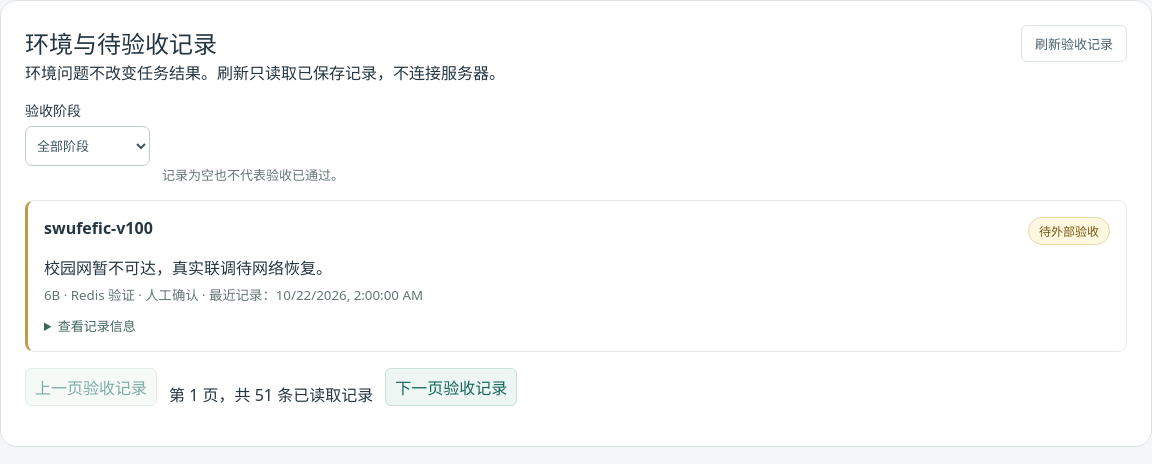
reads next page without losing the way back when records disappear
Expected: the heading "swufefic-v100" is shown, left=44, top=217, right=153, bottom=239
Click the button "下一页验收记录": (451, 387) left=385, top=368, right=517, bottom=406
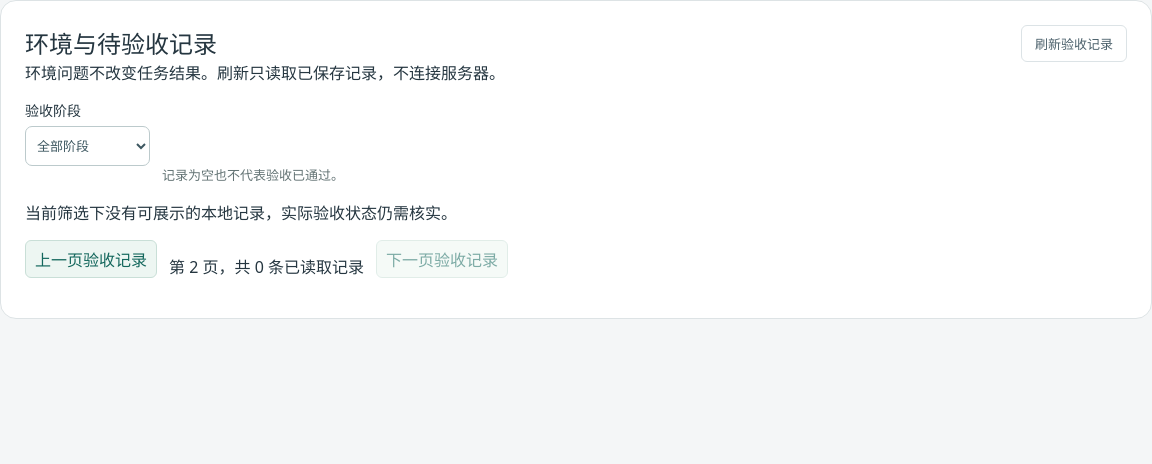
Expected: the text "当前筛选下没有可展示的本地记录，实际验收状态仍需核实。" is shown, left=25, top=202, right=457, bottom=224
Expected: the button "上一页验收记录" is enabled, left=25, top=240, right=157, bottom=278
